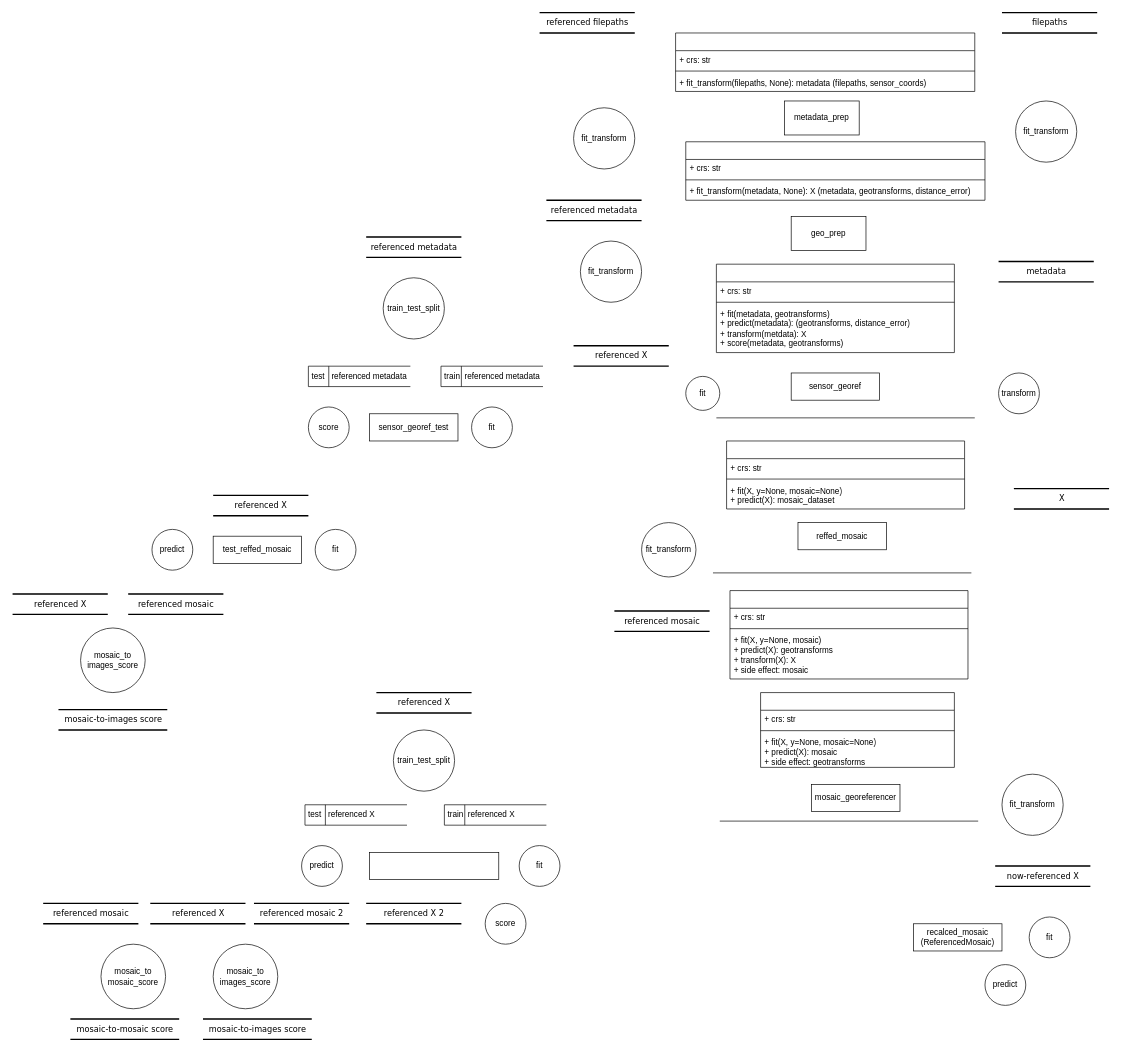
Image size: 1121x1051. Some labels were removed from this diagram. Here are the shapes that lost their labels. From the top down, the box of each, then its label:
(675, 32, 975, 91): MetadataPreprocesser
(685, 141, 985, 200): GeoPreprocesser
(716, 264, 954, 353): SensorGeoreferencer
(726, 440, 965, 509): ReferencedMosaic
(729, 590, 968, 679): MosaicGeoreferencer
(760, 692, 954, 767): LessReferencedMosaic
(369, 852, 499, 880): mosaic_georeferencer_test
